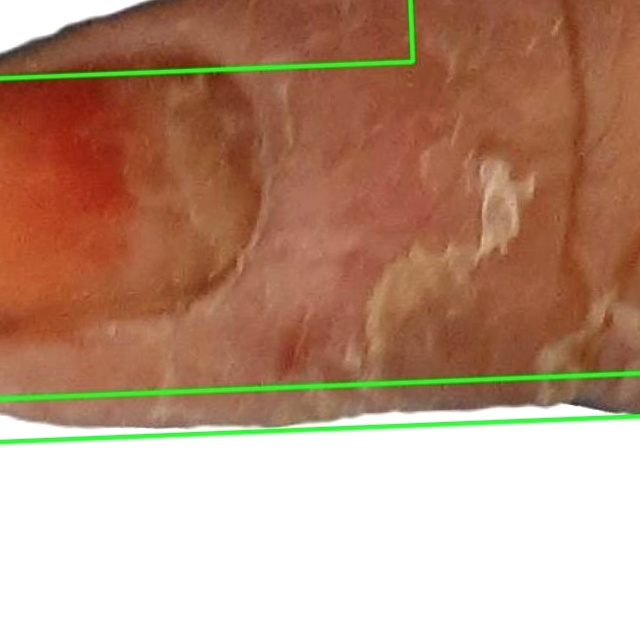Contact Dermatitis: (0, 0, 639, 442), (0, 373, 639, 639)
